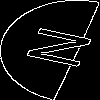N: (24, 25, 100, 73)
